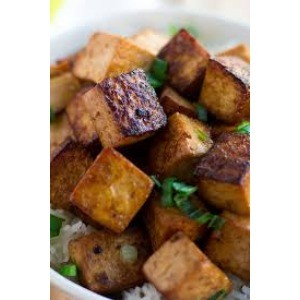tofu_brain food: (75, 66, 231, 248)
